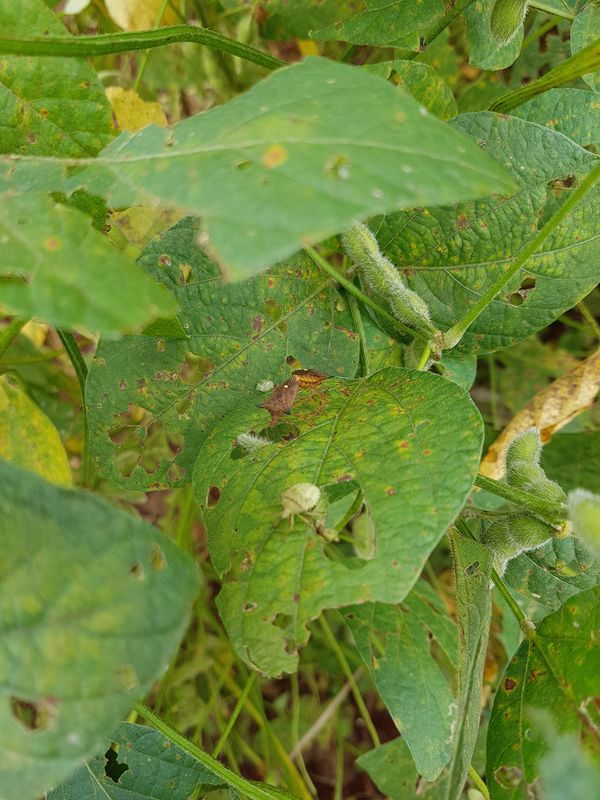Euschistus_heros_adulto: (248, 370, 313, 437)
Euschistus_heros_ninfa: (267, 475, 330, 531)
